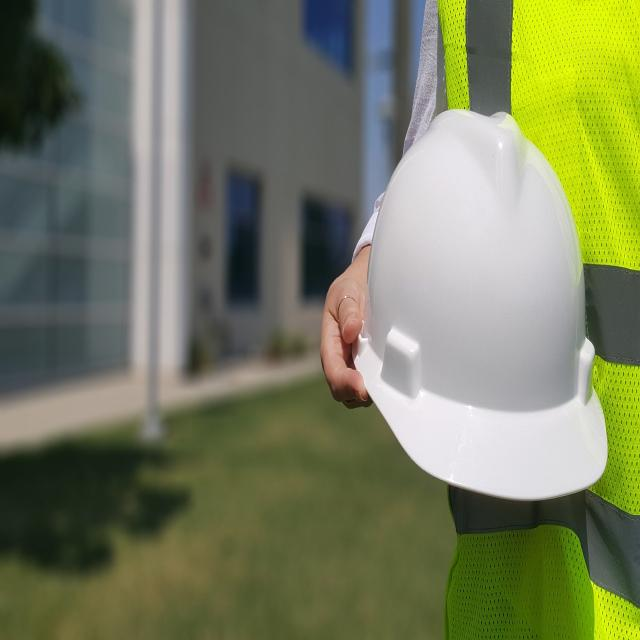helmet: (353, 105, 614, 493)
